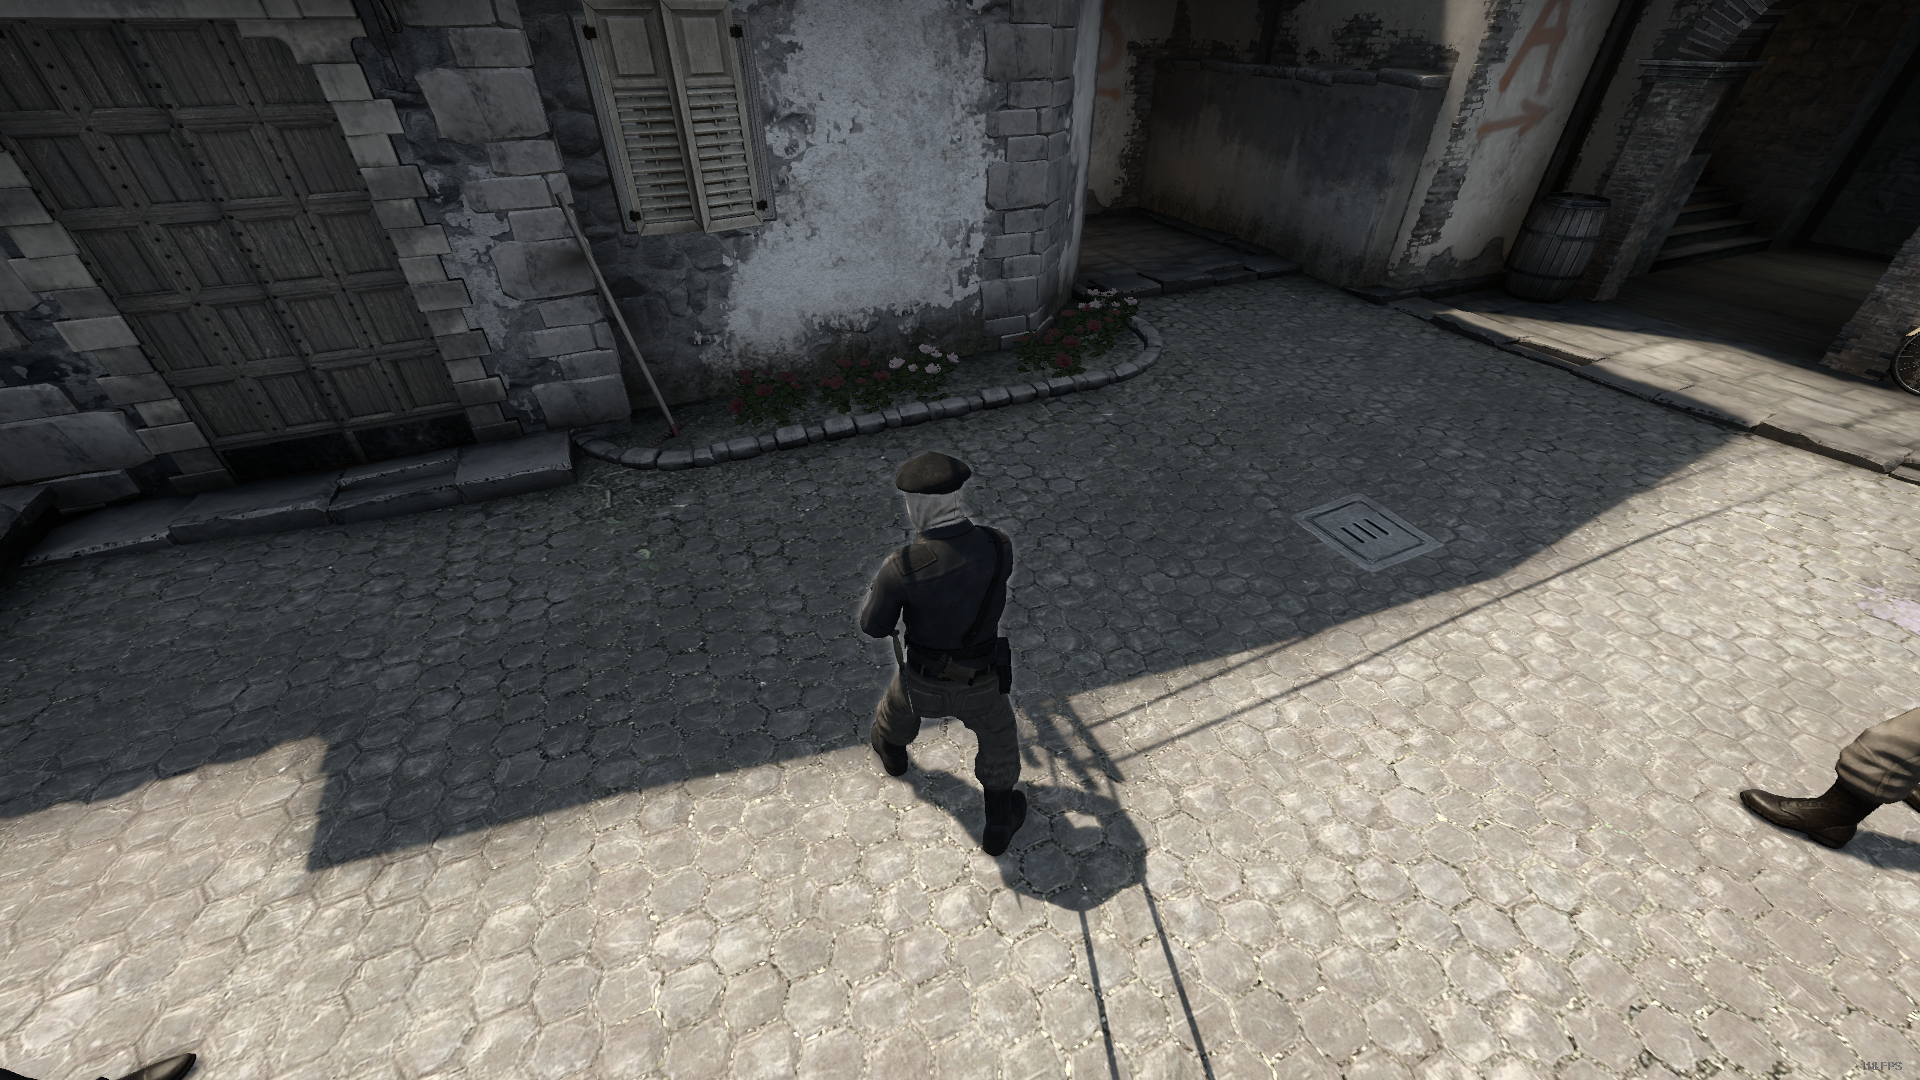t: (844, 444, 1043, 860)
